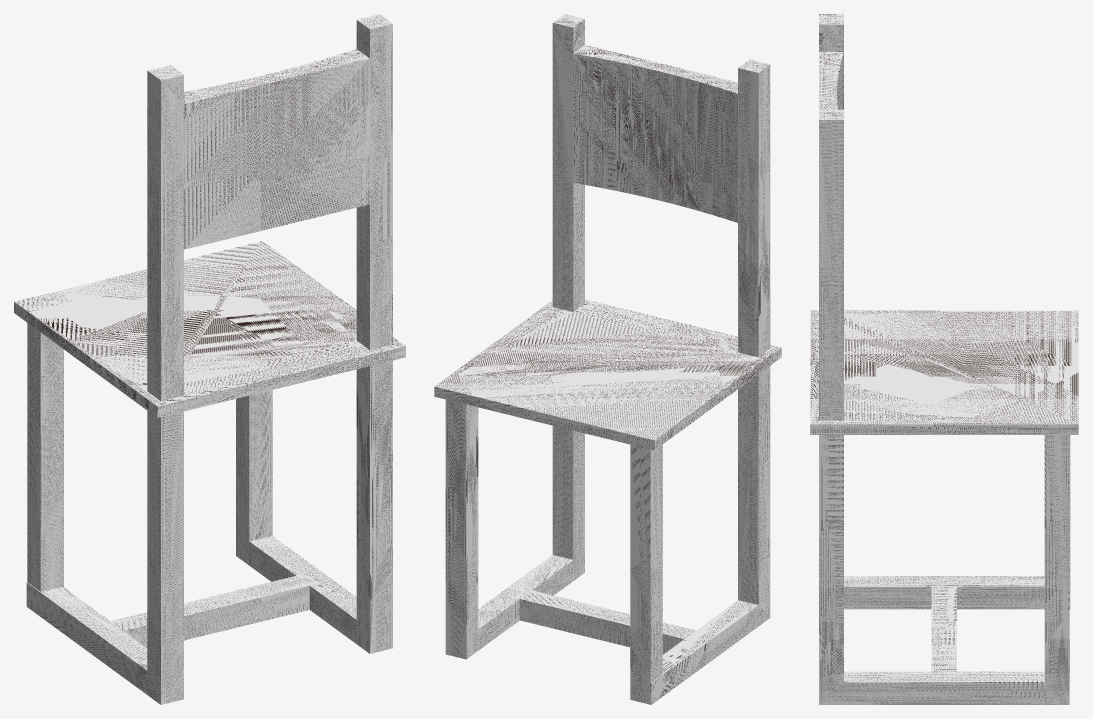
The picture shows the model from 3 angles, left to right: view 1: azimuth 30°, elevation 25°; view 2: azimuth 150°, elevation 25°; view 3: azimuth 270°, elevation 25°; orthographic projection. The views are drawn at different scales.
Parts seen in each view (by area): view 1: mesh3_mesh3-geometry, mesh4_mesh4-geometry, mesh2_mesh2-geometry; view 2: mesh3_mesh3-geometry, mesh4_mesh4-geometry, mesh2_mesh2-geometry; view 3: mesh3_mesh3-geometry, mesh4_mesh4-geometry, mesh2_mesh2-geometry.
Boxes of the visible parts, x1,y1,x2,y2 form: mesh3_mesh3-geometry: (14,14,405,417); mesh4_mesh4-geometry: (111,360,392,653); mesh2_mesh2-geometry: (26,323,183,704); mesh3_mesh3-geometry: (434,14,781,450); mesh4_mesh4-geometry: (445,399,695,659); mesh2_mesh2-geometry: (630,366,770,704); mesh3_mesh3-geometry: (810,14,1078,434); mesh4_mesh4-geometry: (819,435,1069,704); mesh2_mesh2-geometry: (844,435,1070,609).
Size of the model in its own units: 0.3473 by 0.8345 by 0.3473.
